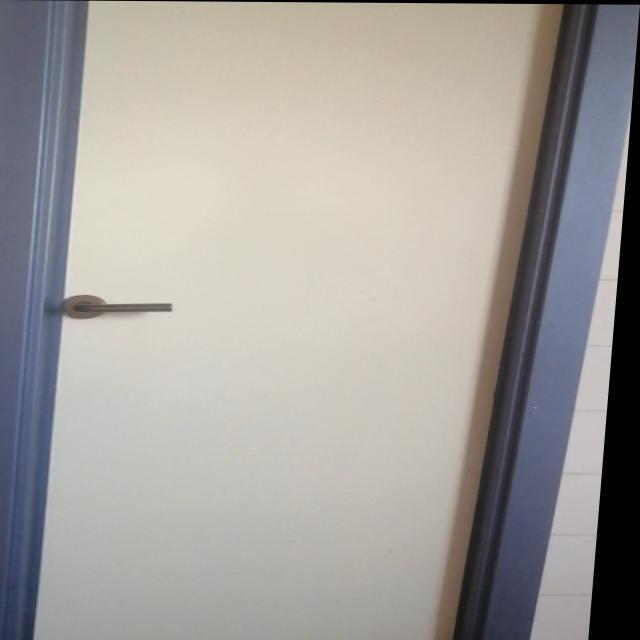door_handle: (72, 299, 183, 317)
